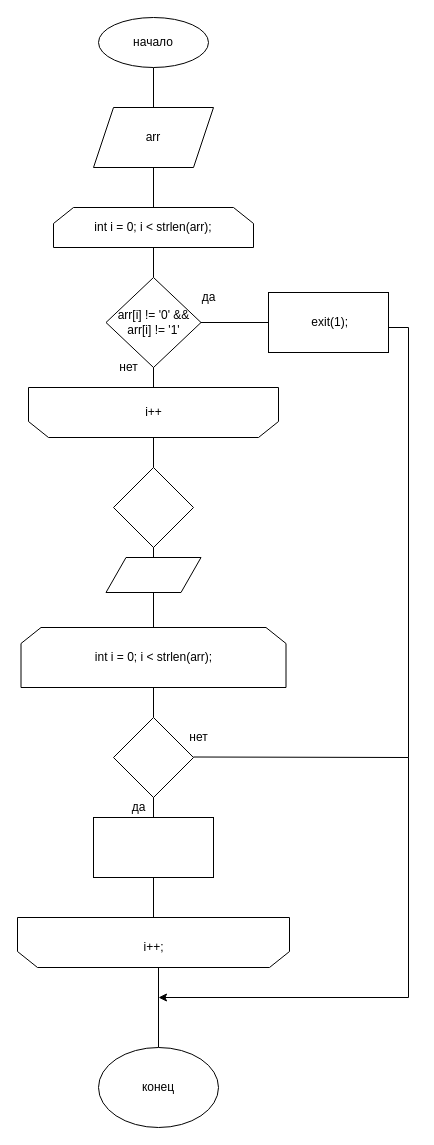
Some shapes in this 434 by 1145 pixel diagram are drawn without their labels. The centre of each missing label's shape, as x and y in pixels:
"arr[i] == '1'" goes at point 153,757.
"counter++;" goes at point 153,847.
"counter;" goes at point 153,574.
"strlen(arr) % 2 == 1" goes at point 153,507.
